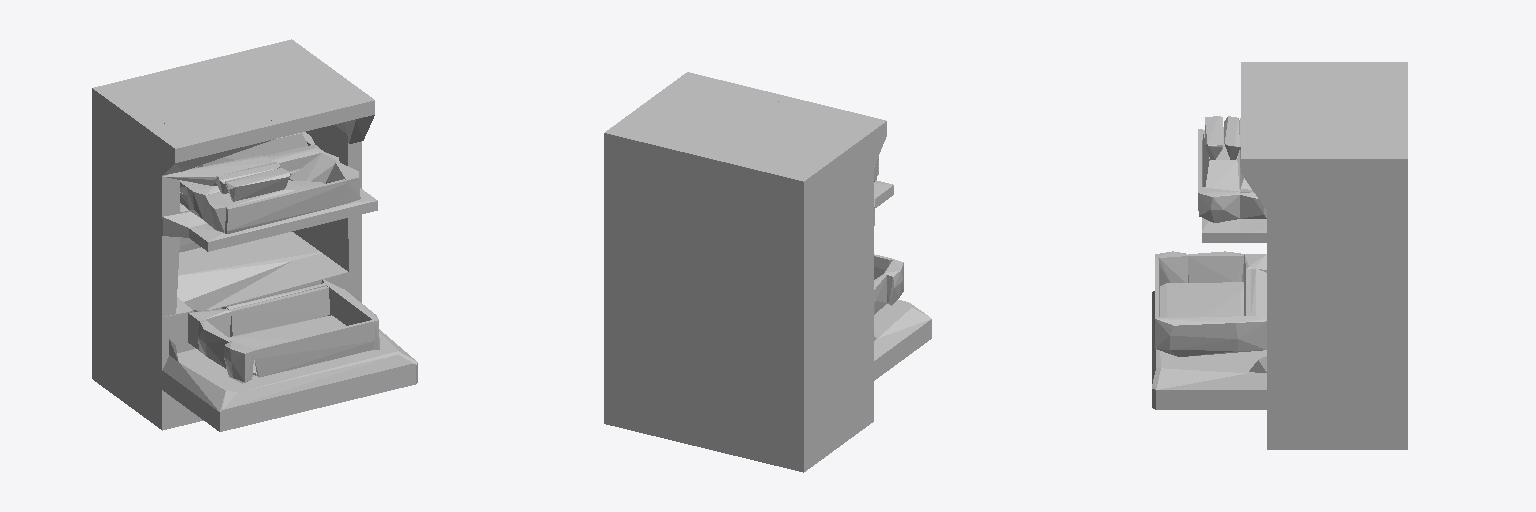
Rendered from dishwasher_vhacd.obj.
The picture shows the model from 3 angles: view 1: azimuth 30°, elevation 25°; view 2: azimuth 150°, elevation 25°; view 3: azimuth 270°, elevation 25°; orthographic projection.
Parts seen in each view (by area): view 1: convex_4, convex_1, convex_0, convex_22, convex_16, convex_2, convex_5, convex_3, convex_21, convex_27, convex_35, convex_8 (+19 smaller); view 2: convex_2, convex_4, convex_6, convex_7, convex_0, convex_22, convex_16, convex_5, convex_1, convex_21, convex_15; view 3: convex_5, convex_2, convex_1, convex_3, convex_22, convex_16, convex_25, convex_26, convex_14, convex_34, convex_24, convex_21 (+11 smaller).
Boxes of the visible parts, x1,y1,x2,y2 form: convex_4: [92, 84, 179, 316]; convex_1: [162, 329, 417, 431]; convex_0: [92, 266, 197, 430]; convex_22: [206, 51, 355, 137]; convex_16: [121, 71, 263, 134]; convex_2: [177, 232, 321, 301]; convex_5: [278, 39, 361, 271]; convex_3: [184, 253, 361, 421]; convex_21: [162, 115, 276, 175]; convex_27: [253, 320, 374, 377]; convex_35: [225, 179, 345, 233]; convex_8: [189, 188, 377, 251]; convex_2: [604, 311, 767, 463]; convex_4: [786, 126, 873, 358]; convex_6: [702, 149, 795, 354]; convex_7: [619, 128, 711, 334]; convex_0: [768, 309, 873, 472]; convex_22: [630, 77, 784, 148]; convex_16: [713, 105, 854, 169]; convex_5: [604, 81, 687, 313]; convex_1: [874, 300, 931, 380]; convex_21: [773, 96, 886, 165]; convex_15: [884, 259, 903, 305]; convex_5: [1267, 152, 1407, 336]; convex_2: [1320, 337, 1407, 449]; convex_1: [1152, 291, 1266, 409]; convex_3: [1267, 337, 1319, 449]; convex_22: [1241, 111, 1385, 151]; convex_16: [1267, 70, 1386, 111]; convex_25: [1155, 316, 1266, 356]; convex_26: [1160, 282, 1243, 316]; convex_14: [1188, 251, 1243, 282]; convex_34: [1203, 127, 1239, 191]; convex_24: [1198, 187, 1239, 222]; convex_21: [1241, 62, 1266, 110].
Bounding box in the file's own units: 4.92 × 6.85 × 5.45.